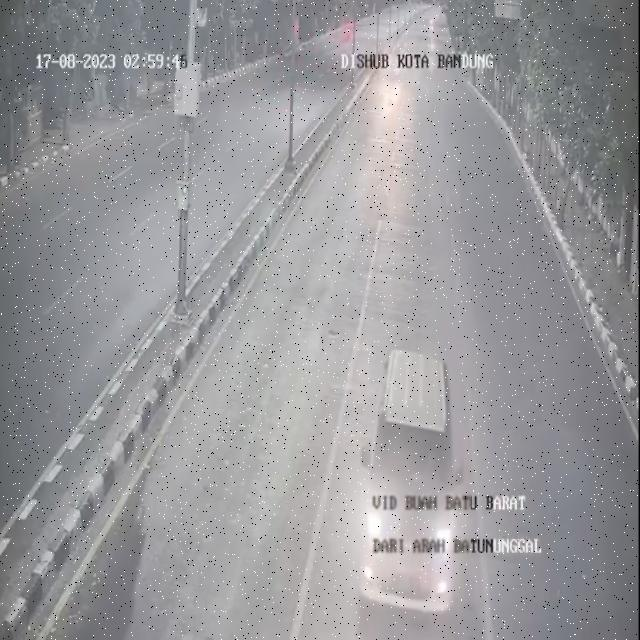cars: (353, 330, 471, 626)
